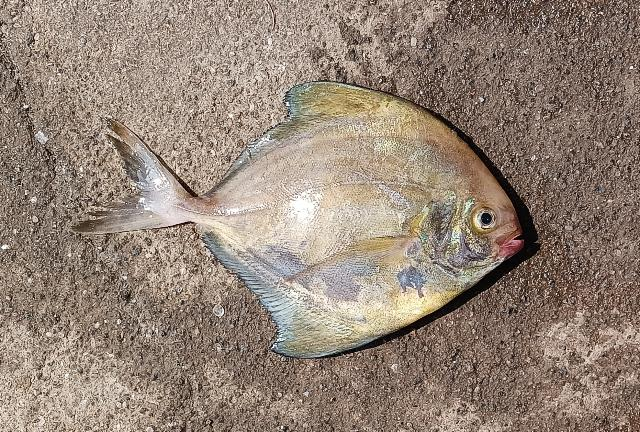Mulut: (483, 214, 541, 272)
Sirip Anal: (192, 226, 296, 322)
Sirip Dada: (275, 209, 437, 293)
Sirip Ekor: (59, 107, 198, 254)
Sirip Perut: (255, 310, 390, 380)
Sirip Punggung: (213, 65, 407, 200)
